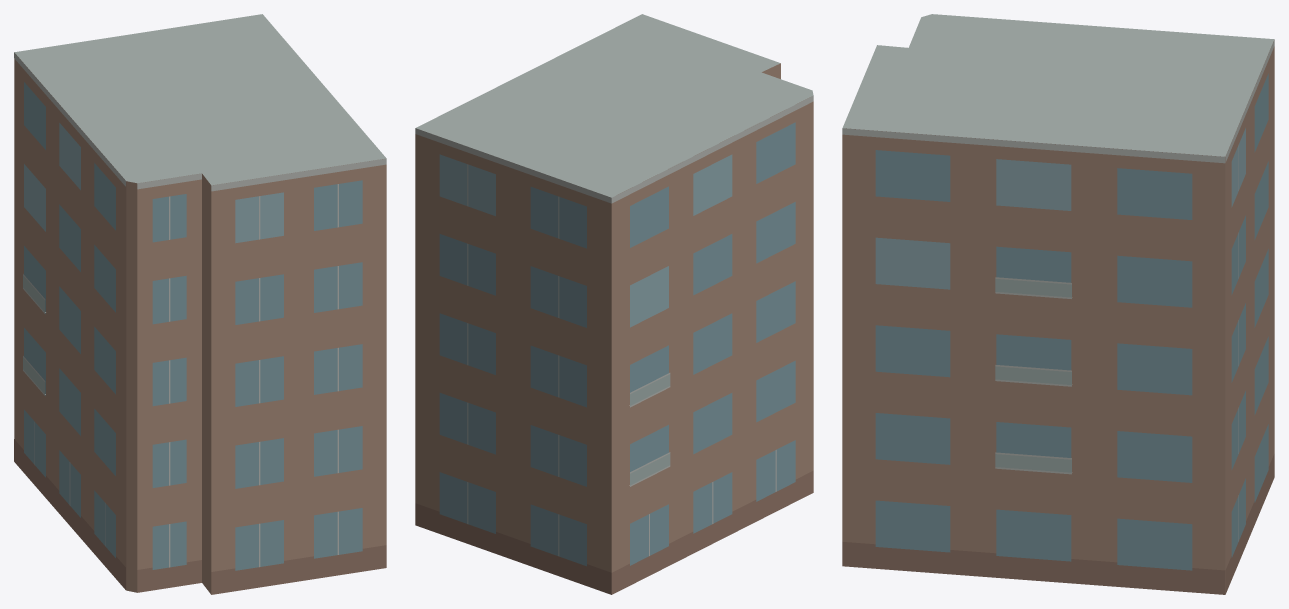
The model's file is survey-upis-32996669.glb.
The picture shows the model from 3 angles, left to right: view 1: azimuth 30°, elevation 25°; view 2: azimuth 150°, elevation 25°; view 3: azimuth 270°, elevation 25°; orthographic projection. The views are drawn at different scales.
Visible parts, largest first — view 1: survey-upis-32996669.tmp; view 2: survey-upis-32996669.tmp; view 3: survey-upis-32996669.tmp.
Part boxes in pixels (left/top/right/bottom): survey-upis-32996669.tmp: left=14, top=14, right=386, bottom=594; survey-upis-32996669.tmp: left=415, top=14, right=813, bottom=594; survey-upis-32996669.tmp: left=842, top=14, right=1274, bottom=594.
Bounding box in the file's own units: 11.47 × 16.4 × 14.67.
